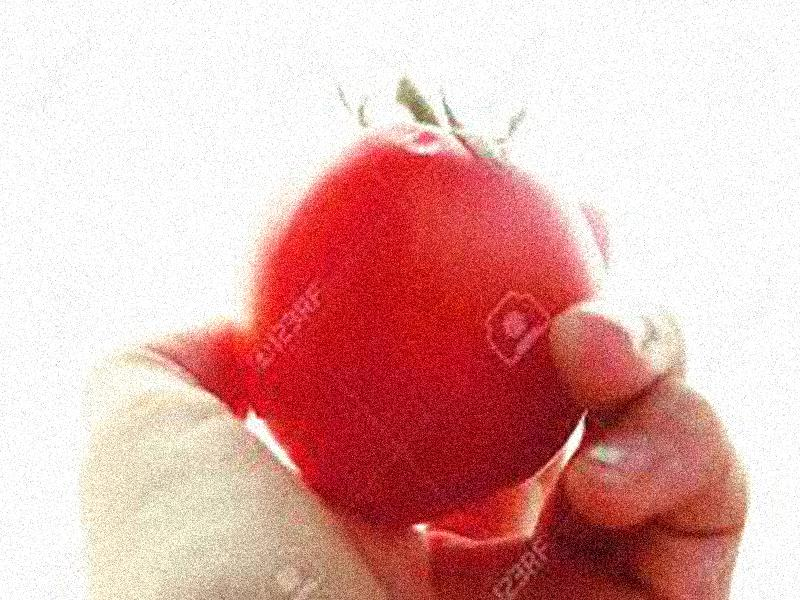Tomato: (239, 118, 608, 518)
